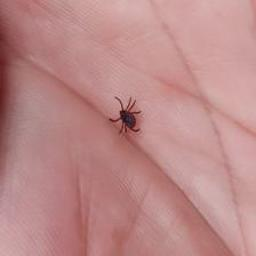Rhipicephalus sanguineus: (109, 97, 142, 134)
